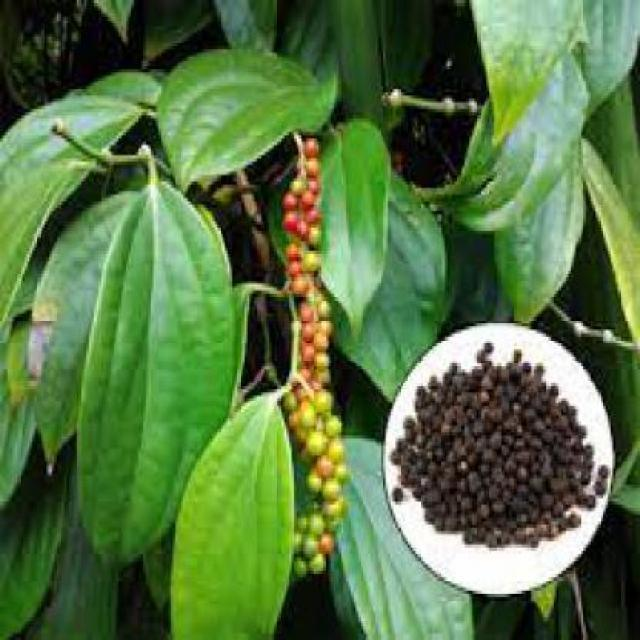RIPE: (277, 145, 338, 568)
